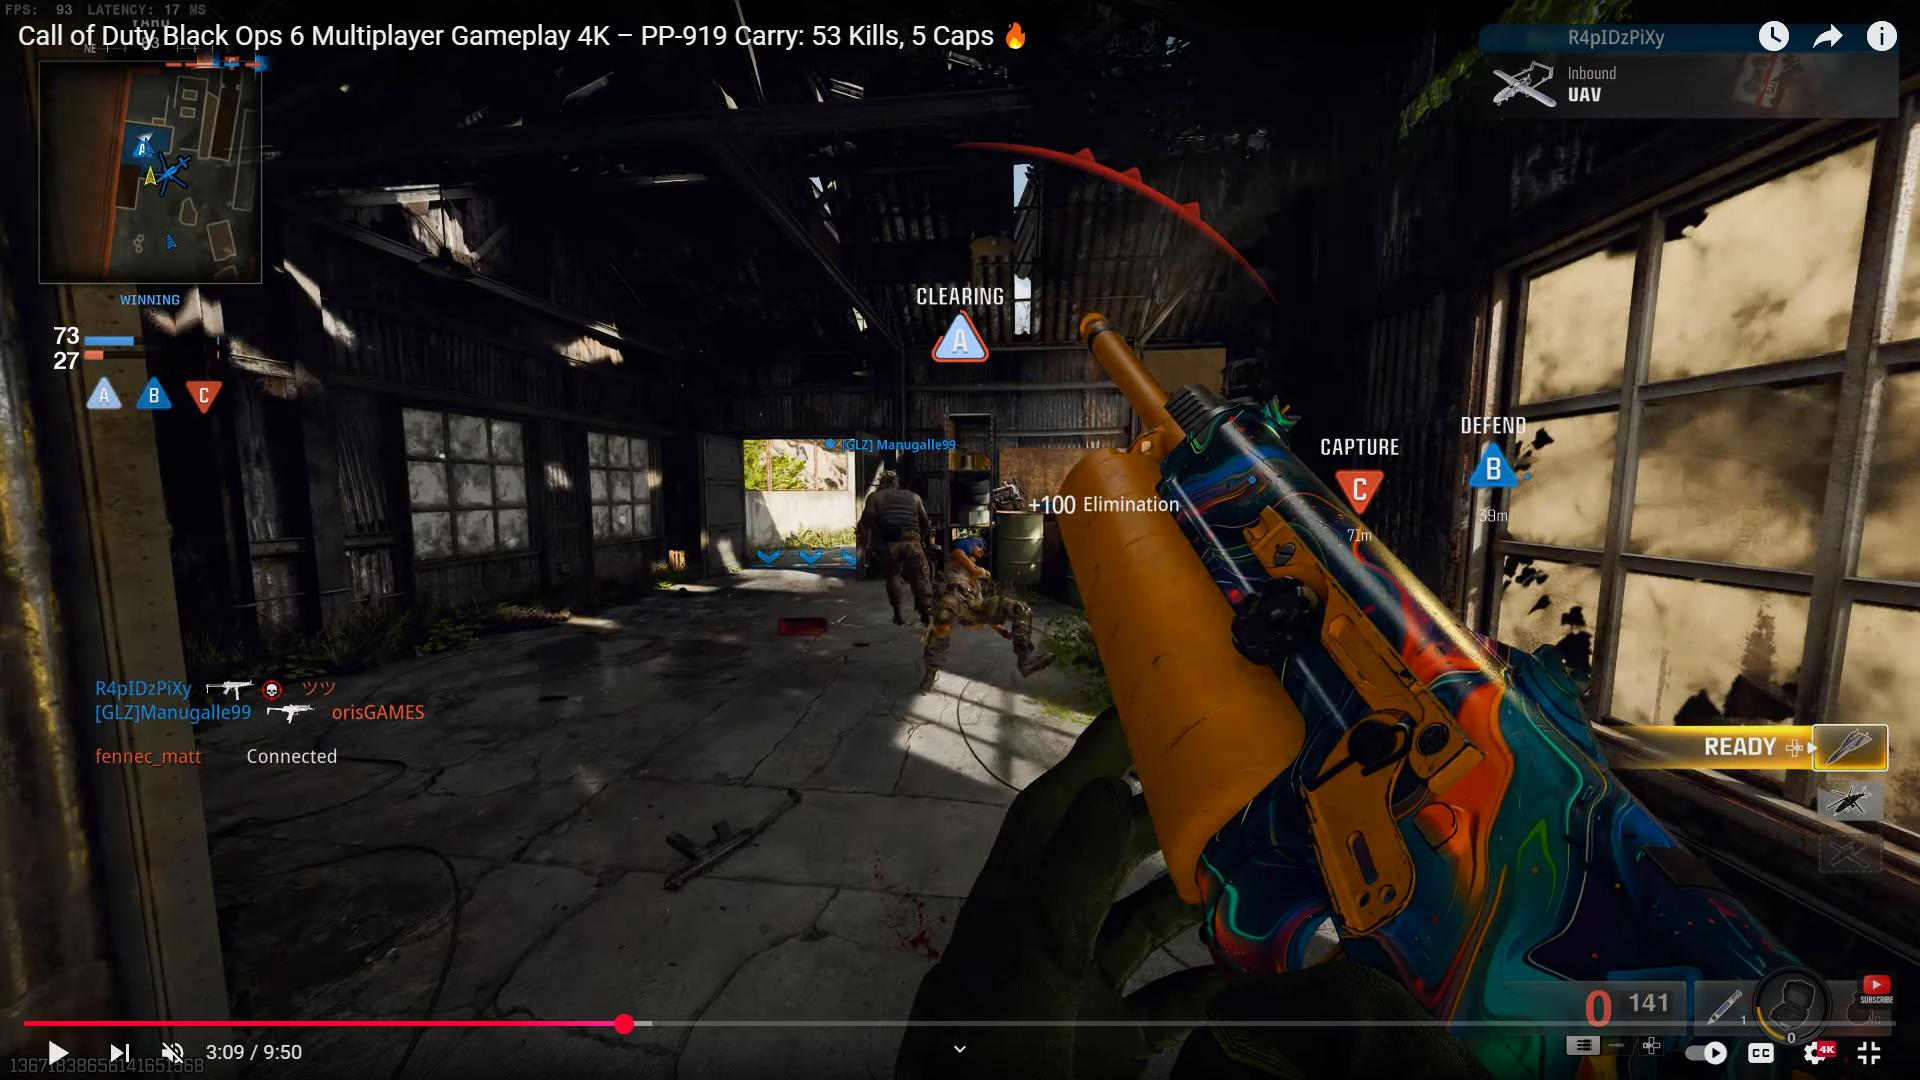Enemy: (940, 527, 1033, 675), (856, 473, 928, 615)
